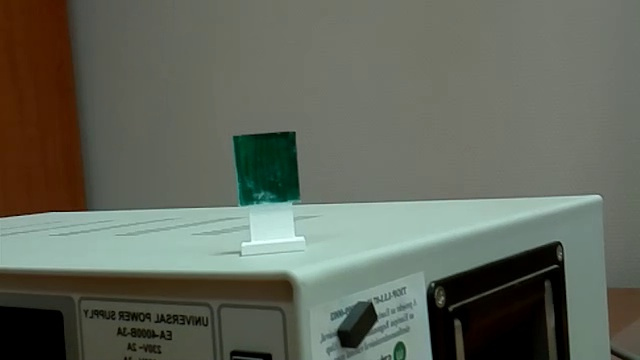rect: (222, 126, 309, 259)
